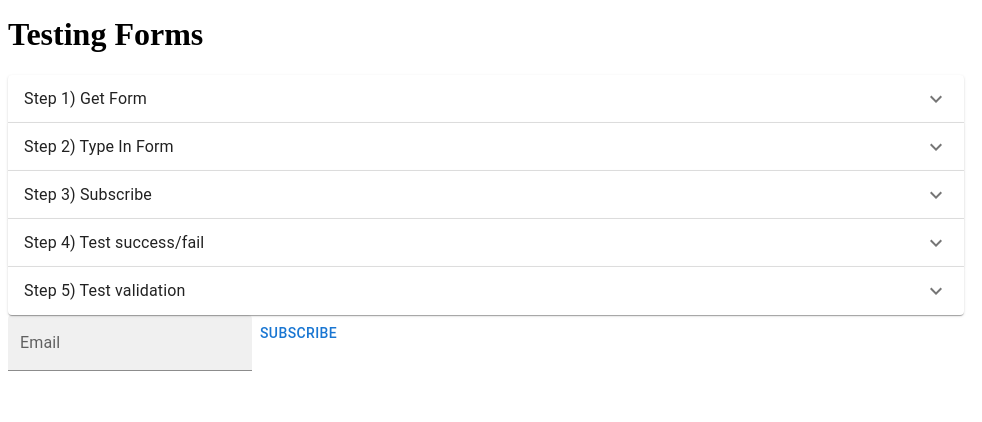
Test case: Forms Test › test form successful submission
The image size is (982, 422).
Check: the heading with test id "testing-forms-header" reads "Testing Forms", box [8,16,203,52]
Step 1. Type "one@gmail.com" into the field labelled "Email" → (130, 343), box [8,315,252,371]
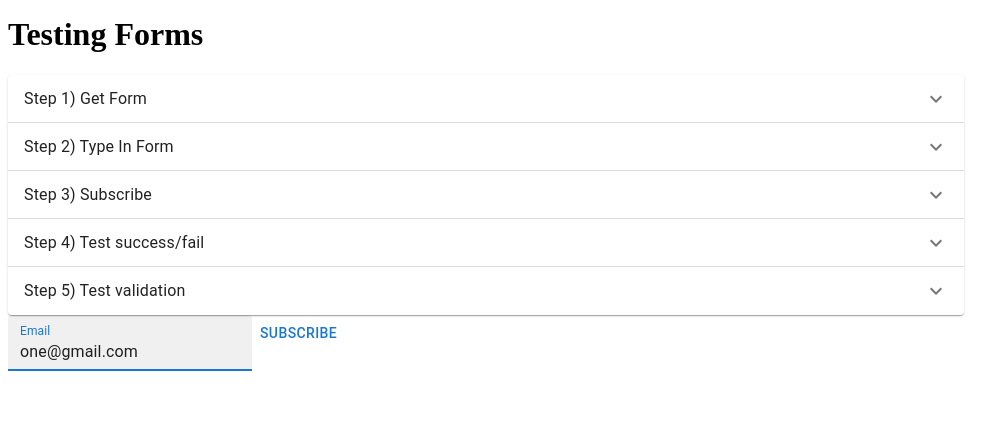
Check: the text "successfully subbed" is not shown
Step 2. Click the button with test id "subscribe-submit" → (299, 334), box [252,315,345,352]
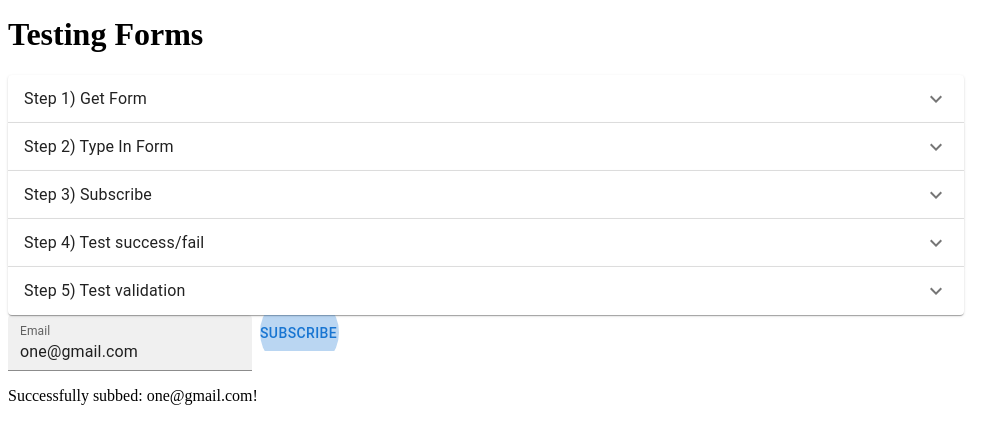
Check: the text "Successfully subbed: one@gmail.com!" is shown, box [8,387,258,404]
